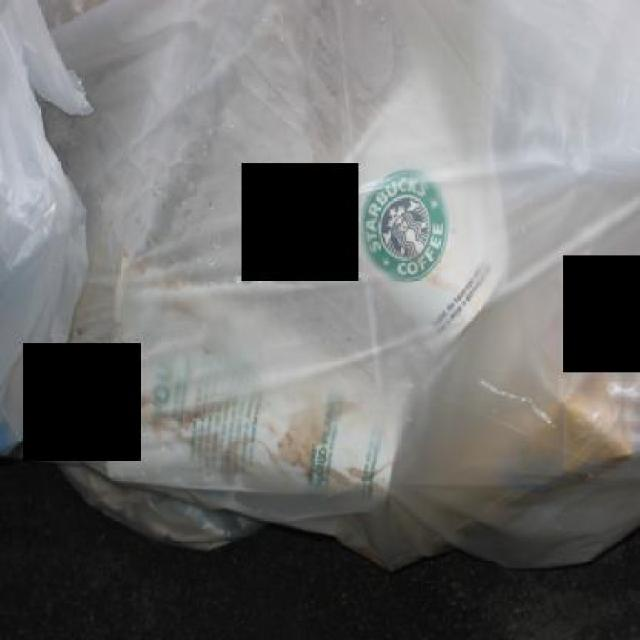plastic bag: (46, 0, 638, 572), (50, 0, 638, 575), (0, 0, 95, 452)
